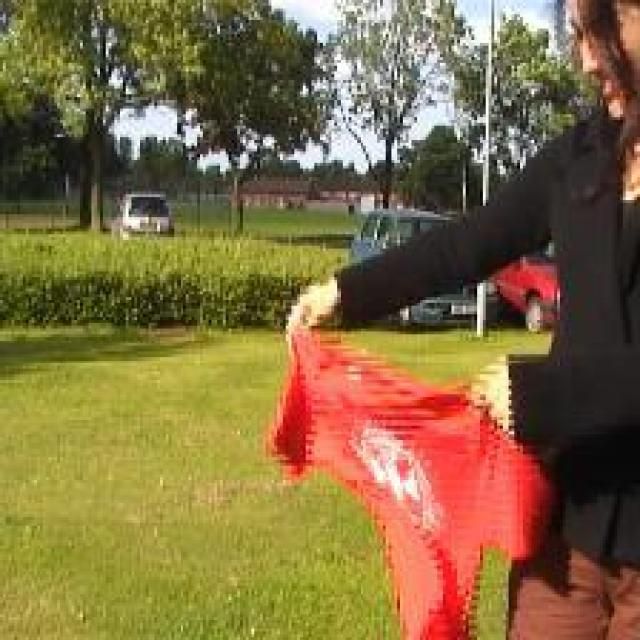other: (234, 316, 553, 621)
